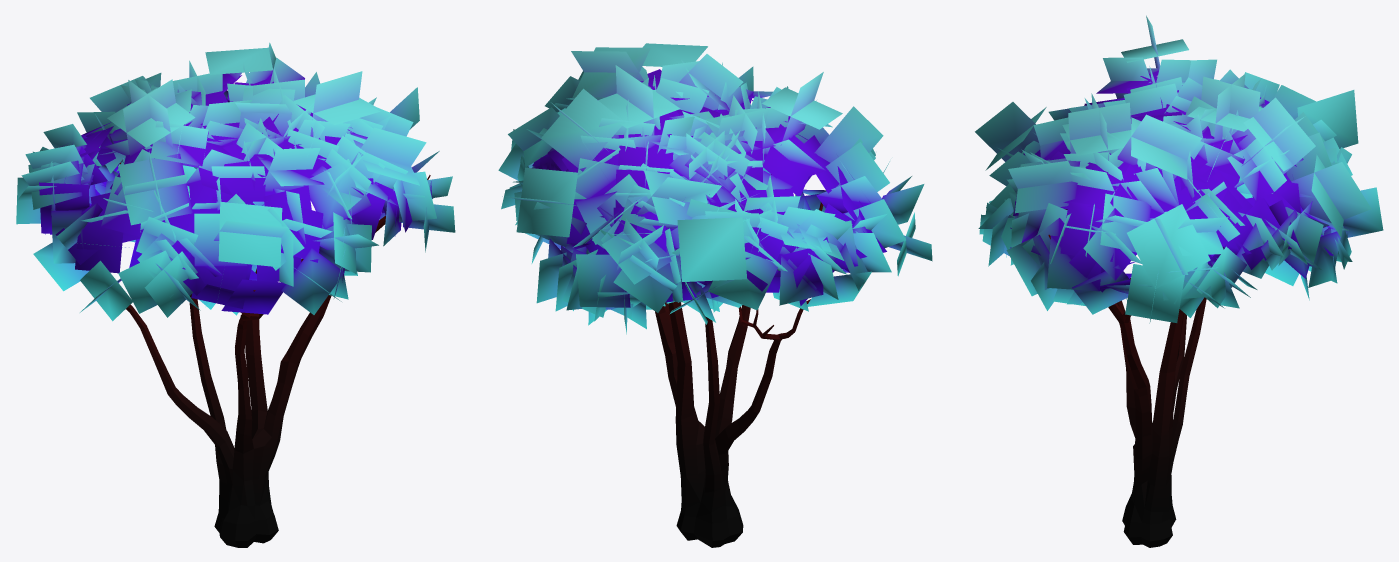
Rendered from SM_Env_Tree_Pohutukawa_03.gltf.
The picture shows the model from 3 angles, left to right: view 1: azimuth 30°, elevation 25°; view 2: azimuth 150°, elevation 25°; view 3: azimuth 270°, elevation 25°; orthographic projection. The views are drawn at different scales.
Visible parts, largest first — view 1: SM_Env_Tree_Pohutukawa_03_LOD0; view 2: SM_Env_Tree_Pohutukawa_03_LOD0; view 3: SM_Env_Tree_Pohutukawa_03_LOD0.
Boxes of the visible parts, box(x1,y1,x2,y2) form: SM_Env_Tree_Pohutukawa_03_LOD0: box(16, 42, 455, 547); SM_Env_Tree_Pohutukawa_03_LOD0: box(498, 43, 932, 547); SM_Env_Tree_Pohutukawa_03_LOD0: box(975, 15, 1383, 547).
Bounding box in the file's own units: 4.2 × 4.89 × 3.87.
